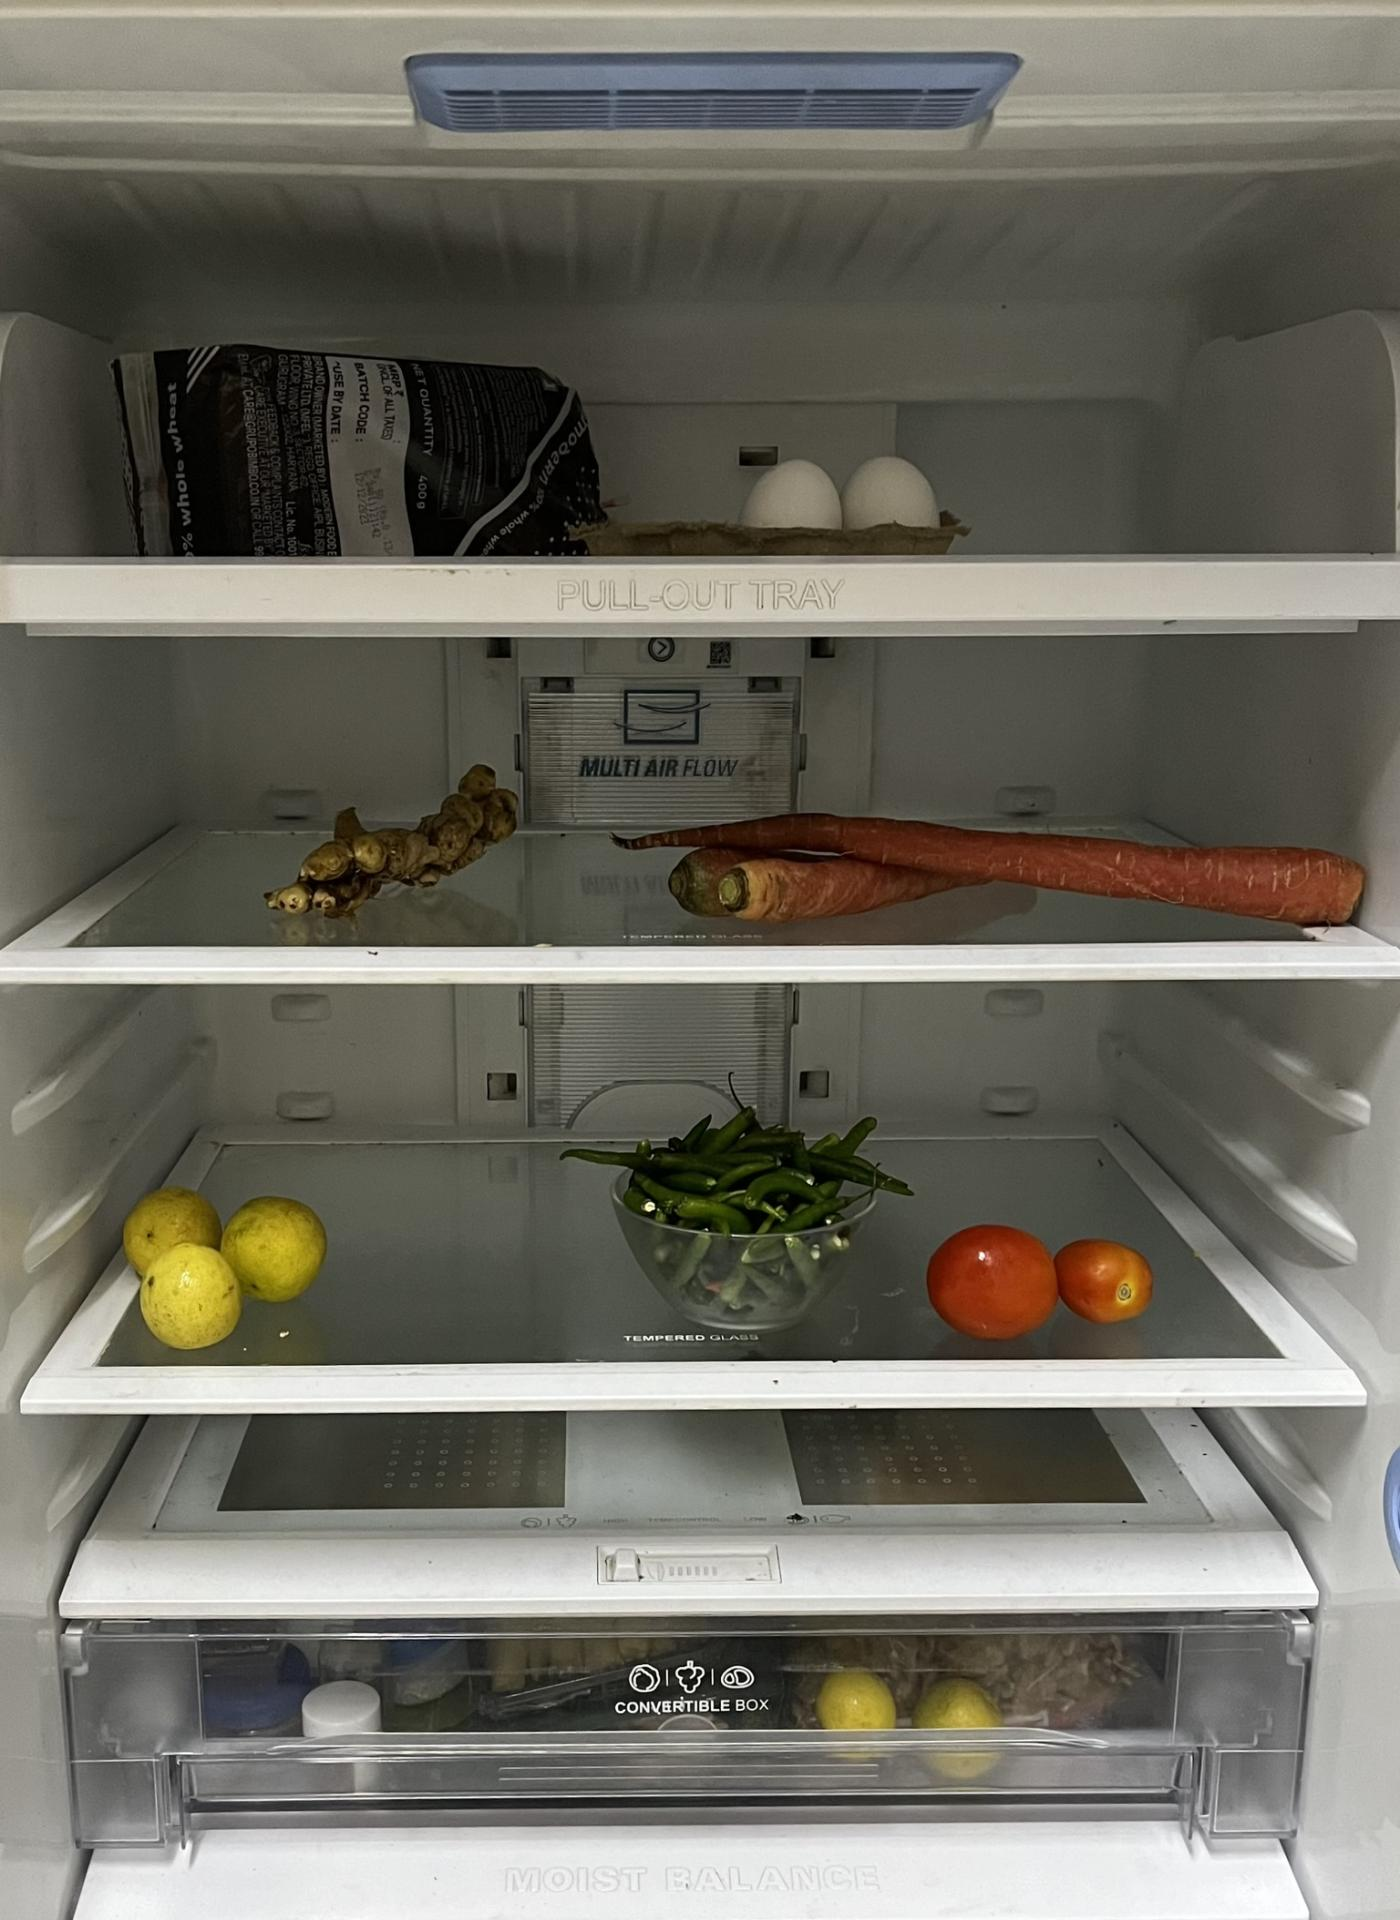bread: (119, 331, 640, 559)
carrots: (655, 815, 1364, 939)
chillies: (577, 1097, 914, 1330)
egg: (747, 450, 962, 544)
ginger: (261, 787, 528, 926)
lemon: (113, 1176, 331, 1354)
tomato: (921, 1225, 1155, 1343)
